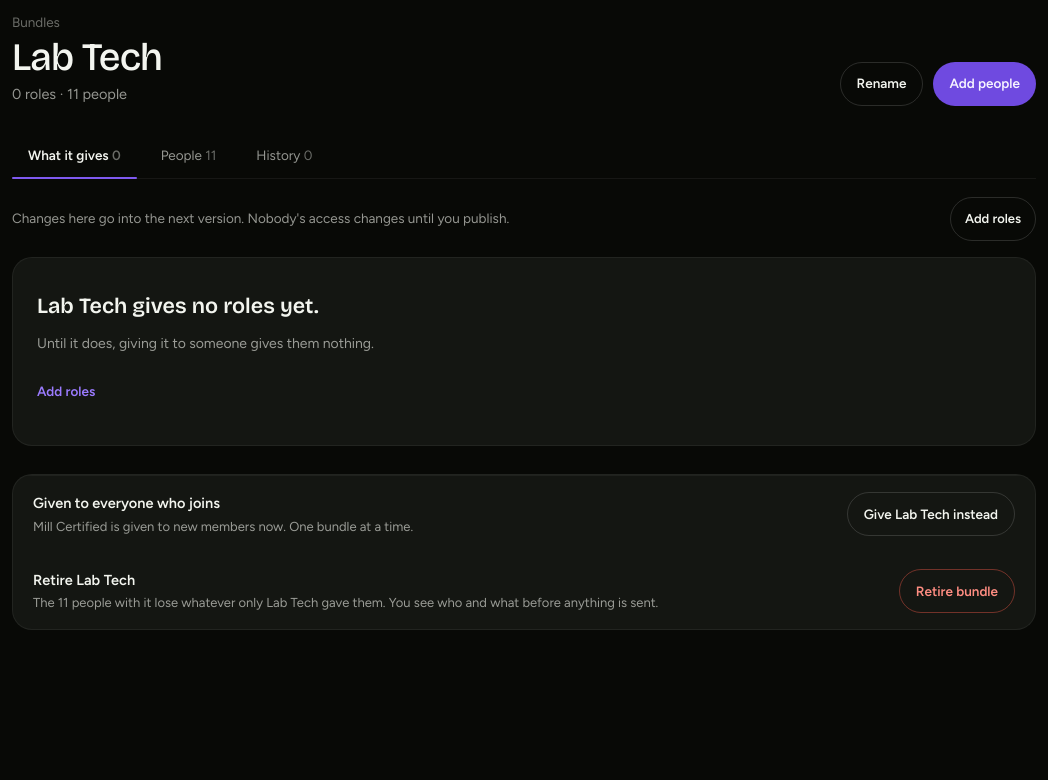
Test case: given to everyone who joins › offers 'Give X instead' when another is the default
Check: the text "Mill Certified is given to new members now. One bundle at a time." is shown, box [33,519,413,534]
Click the button "Give Lab Tech instead".
click(931, 514)  # box [847,492,1015,536]
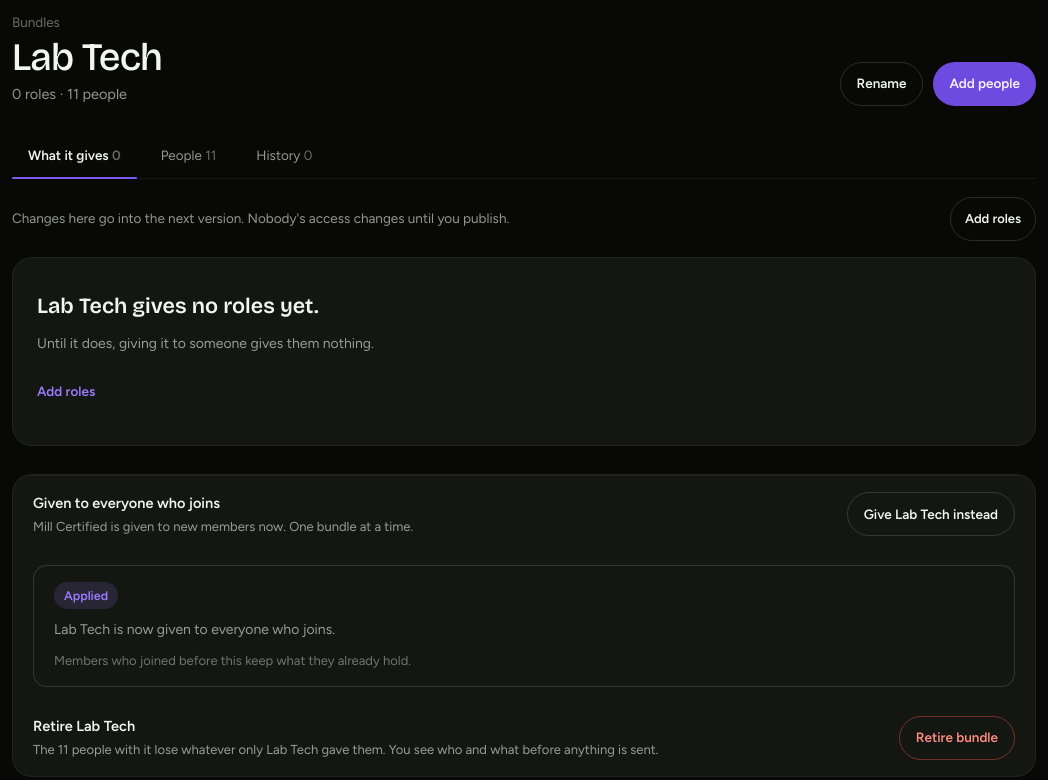
Check: the text "Lab Tech is now given to everyone who joins." is shown, box [54,621,335,638]
